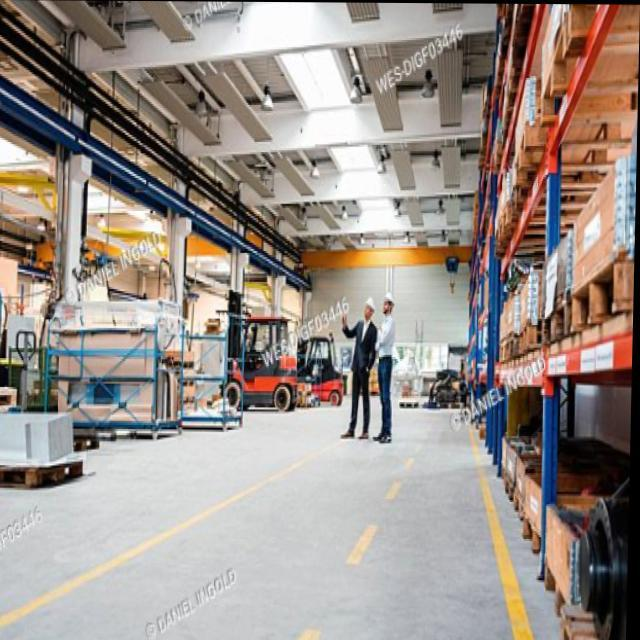hard_hat: (382, 291, 395, 316), (364, 297, 376, 321)
shoes: (339, 428, 370, 442), (372, 431, 393, 445)
